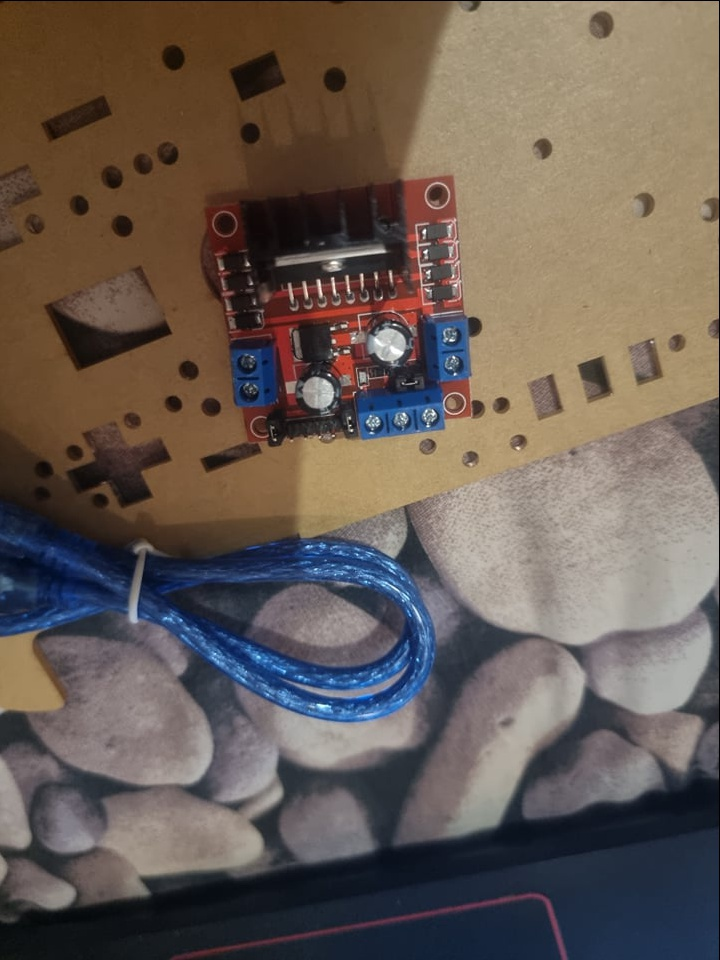MOTOR: (206, 173, 475, 450)
